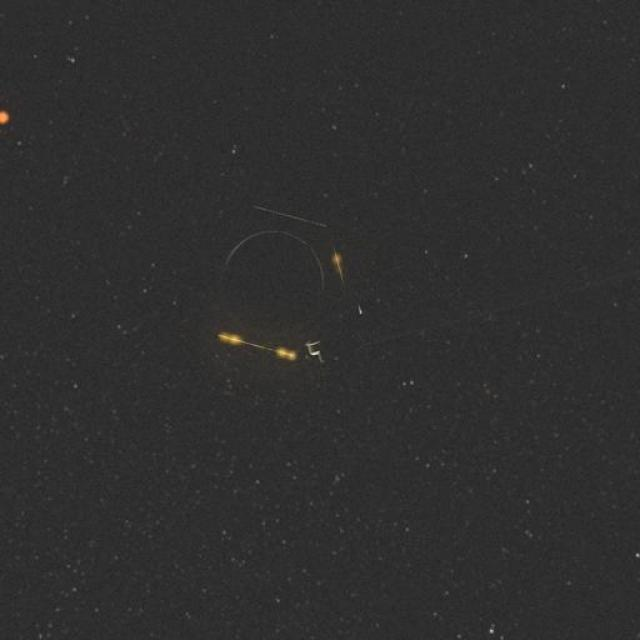earth_observation_sat_1: (185, 182, 381, 382)
